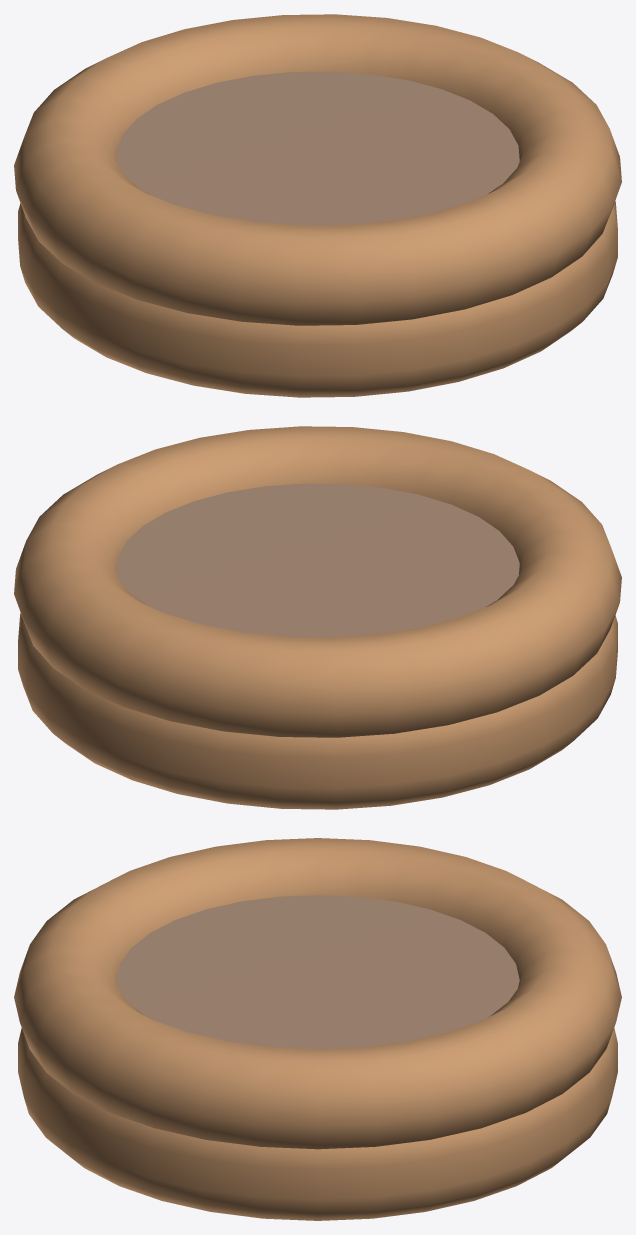
The model's file is bowlTan.glb.
The picture shows the model from 3 angles, top to bottom: view 1: azimuth 30°, elevation 25°; view 2: azimuth 150°, elevation 25°; view 3: azimuth 270°, elevation 25°; orthographic projection.
Parts seen in each view (by area): view 1: Bowl rim, Food, Bowl base; view 2: Bowl rim, Food, Bowl base; view 3: Bowl rim, Food, Bowl base.
Part boxes in pixels (x1=…): Bowl rim: x1=14, y1=14, x2=621, y2=325; Food: x1=116, y1=71, x2=519, y2=225; Bowl base: x1=18, y1=201, x2=617, y2=397; Bowl rim: x1=14, y1=426, x2=621, y2=737; Food: x1=116, y1=483, x2=519, y2=637; Bowl base: x1=18, y1=613, x2=617, y2=809; Bowl rim: x1=14, y1=838, x2=621, y2=1149; Food: x1=116, y1=895, x2=519, y2=1049; Bowl base: x1=18, y1=1028, x2=617, y2=1220.
Bounding box in the file's own units: 0.73 × 0.2068 × 0.73.
